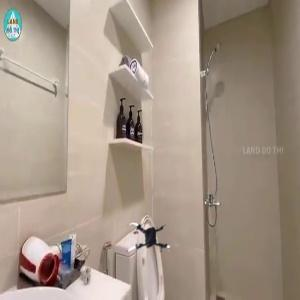drone: (124, 213, 178, 267)
